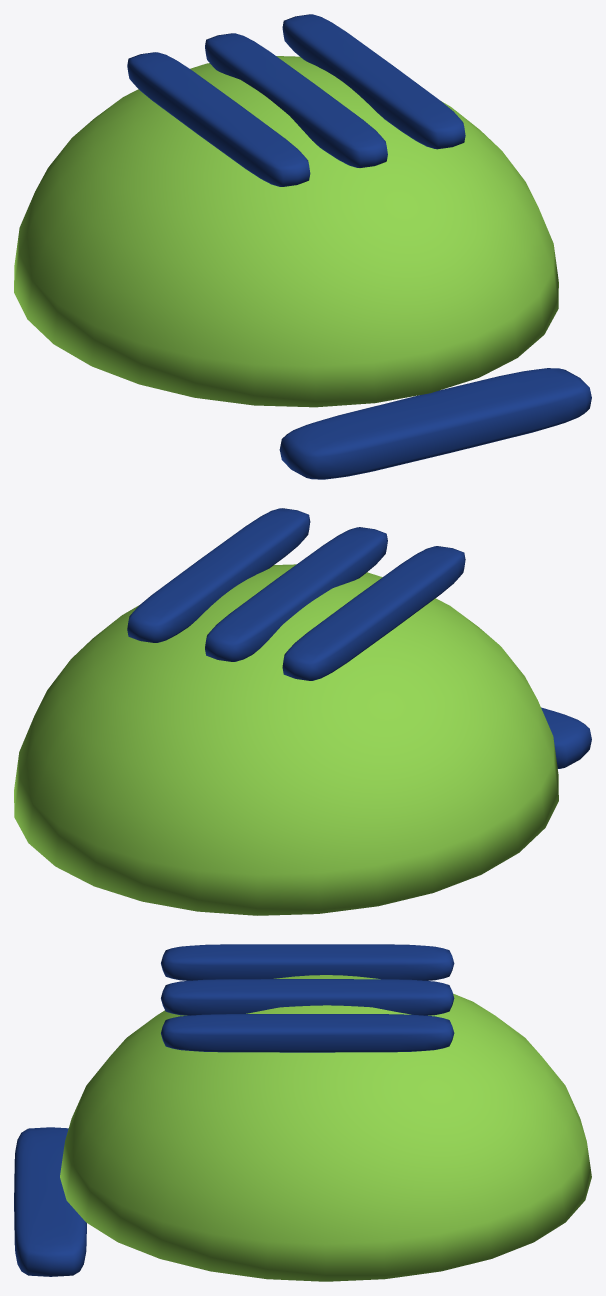
File: hat_bike_helmet.glb
3 views of the same model, one above another, from view 1: azimuth 30°, elevation 25°; view 2: azimuth 150°, elevation 25°; view 3: azimuth 270°, elevation 25° (orthographic). The views are drawn at different scales.
Parts seen in each view (by area): view 1: Body; view 2: Body; view 3: Body.
Boxes of the visible parts, x1,y1,x2,y2 form: Body: [14, 14, 591, 479]; Body: [14, 508, 591, 915]; Body: [14, 944, 591, 1281].
Bounding box in the file's own units: 0.54 × 0.28 × 0.63.
